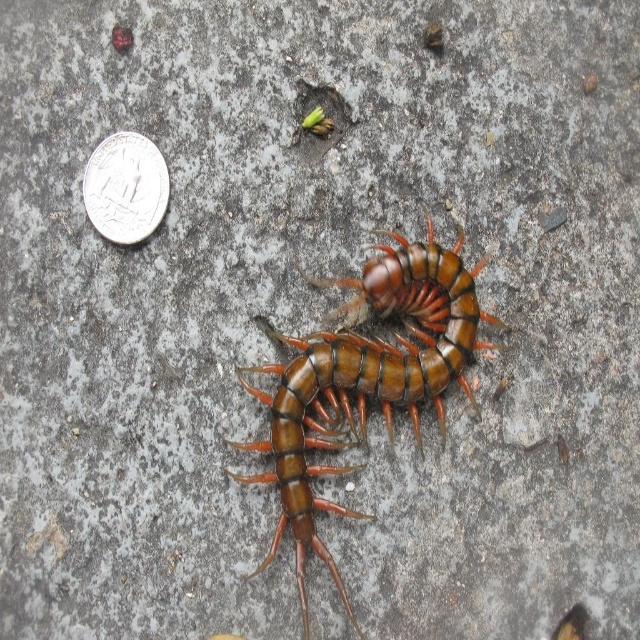Centipede: (224, 214, 506, 639)
